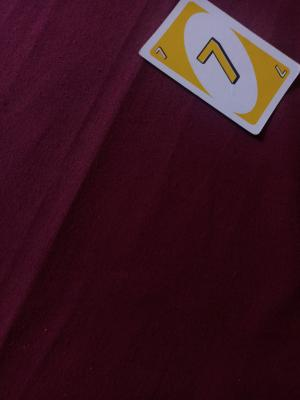num_7: (183, 30, 247, 86)
